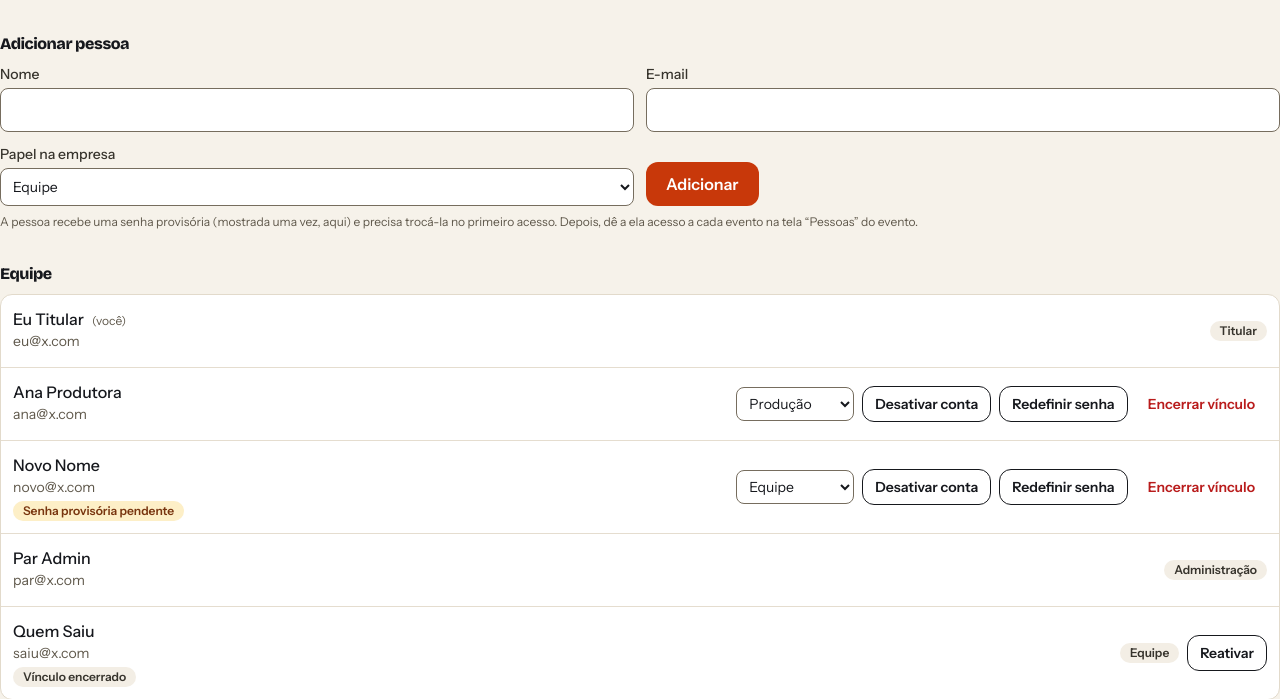
Test: TeamManager › adicionar pessoa › copiar leva a senha para a área de transferência
Type "Pessoa Nova" into the field labelled "Nome" at coordinates (317, 110), box [0,88,634,132]
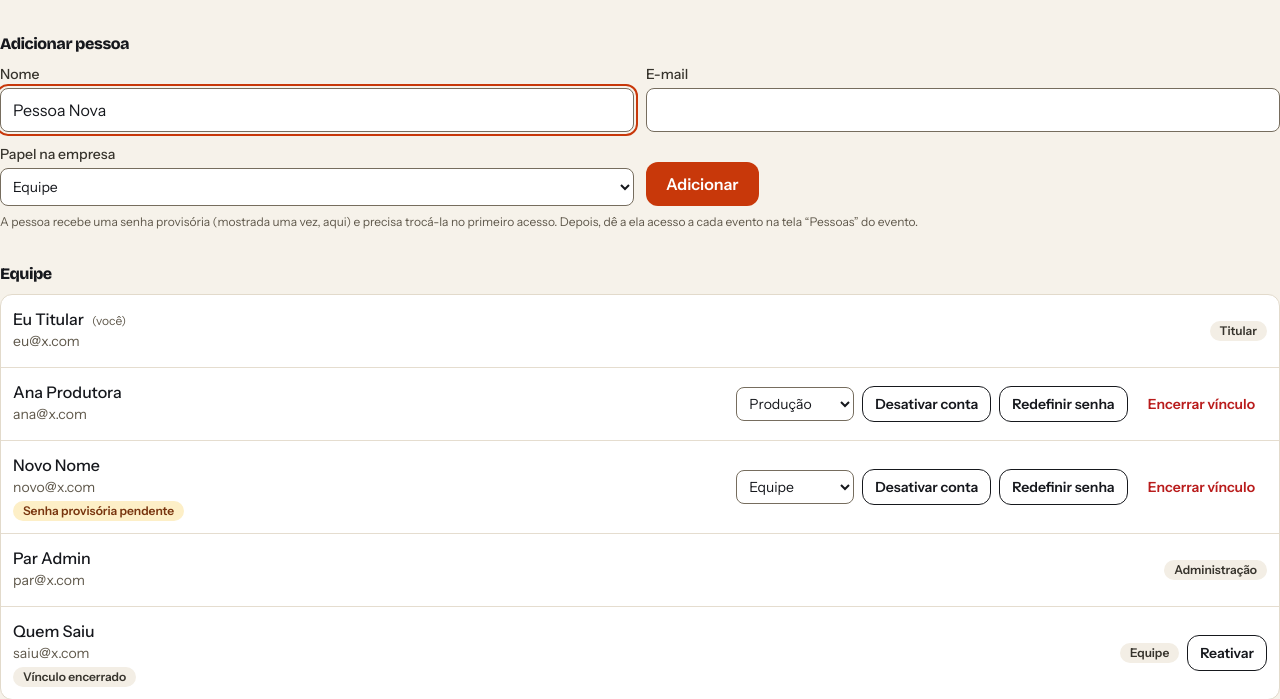
Type "p@x.com" into the field labelled "E-mail" at coordinates (963, 110), box [646,88,1279,132]
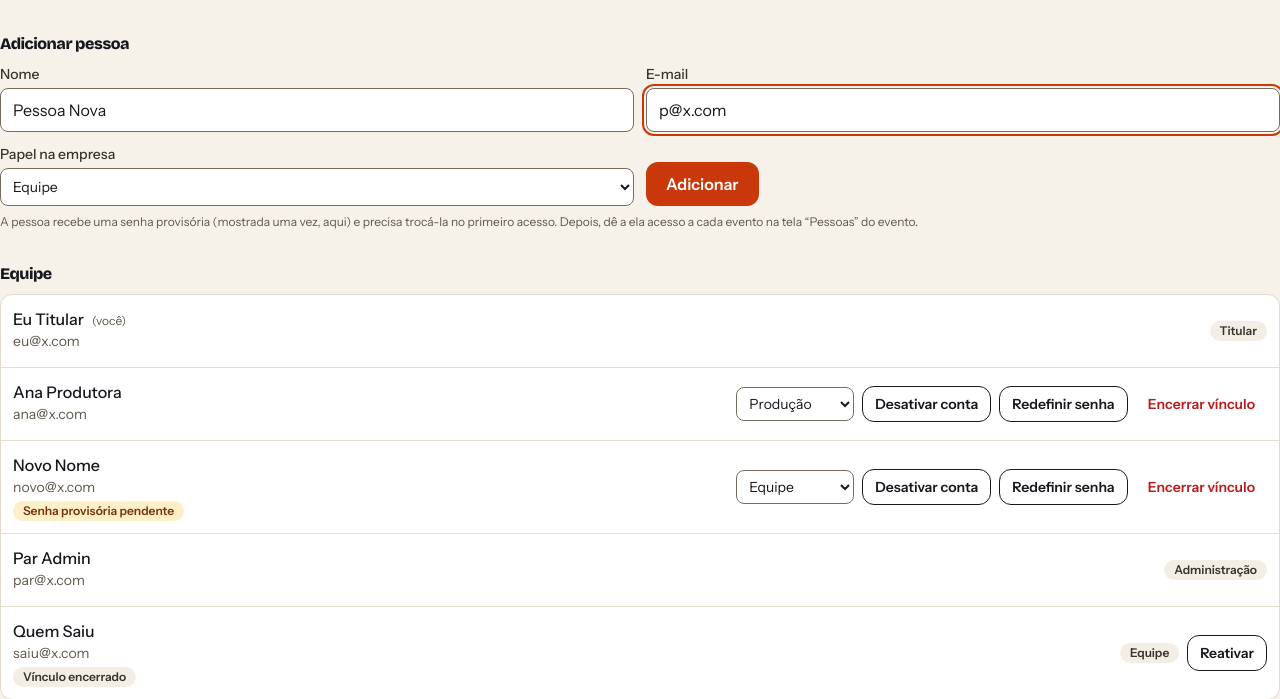
Click the button "Adicionar" at coordinates (702, 184), box [646,162,759,206]
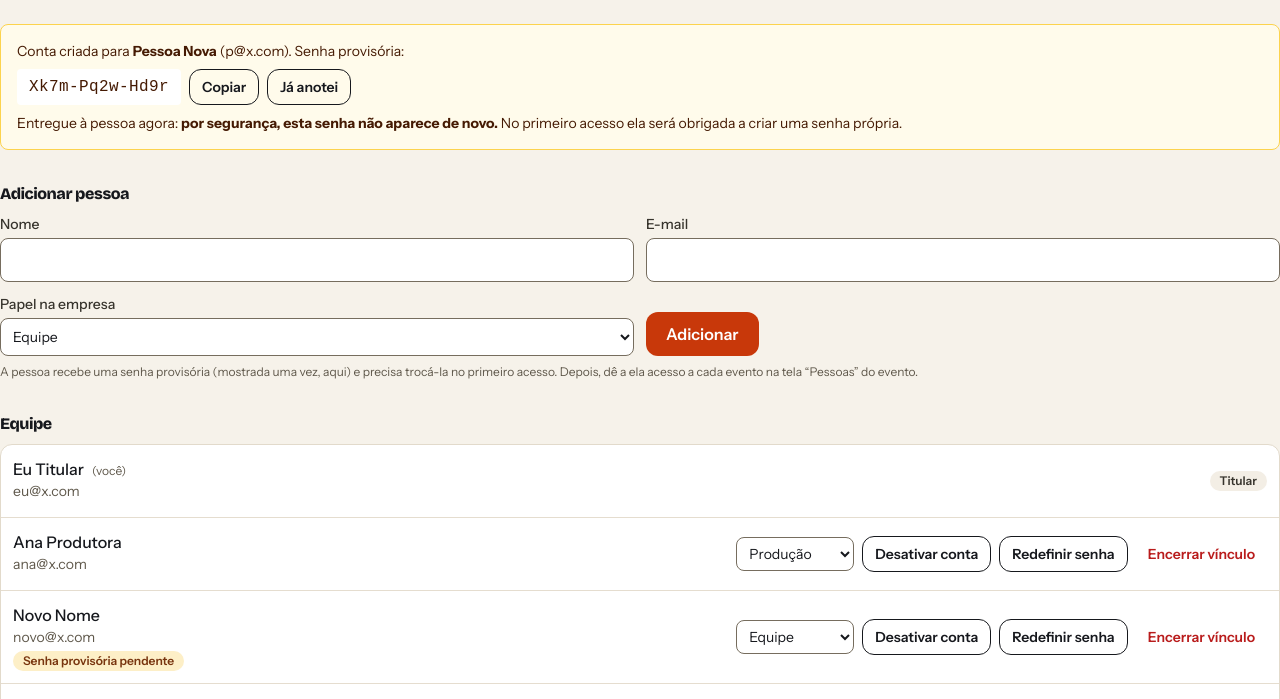
Click the button "Copiar" at coordinates (224, 87), box [189,69,259,105]
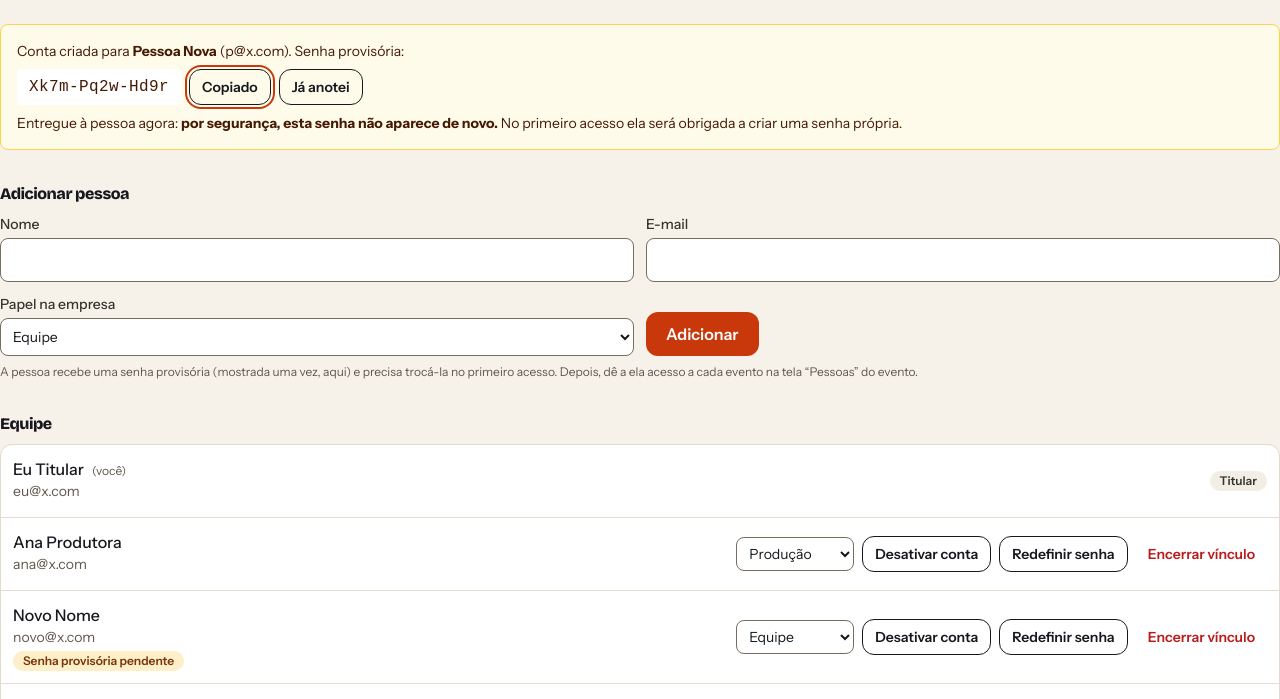
Expected: the button "Copiado" is shown, [189,69,271,105]
